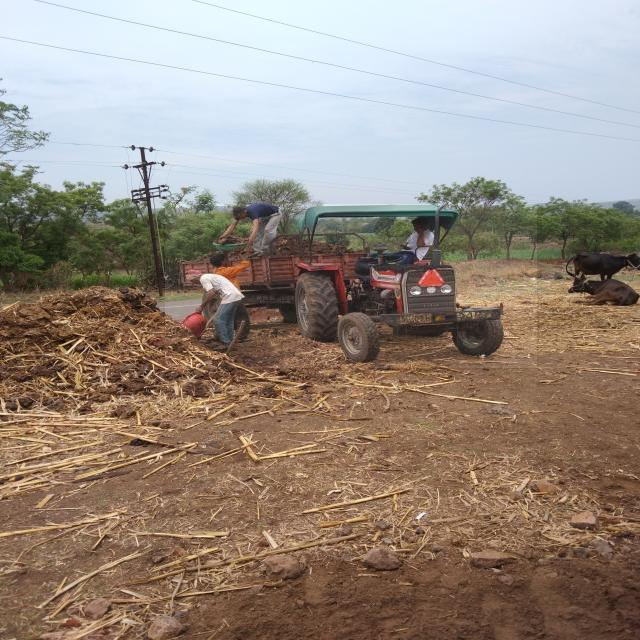Tractot: (165, 204, 538, 368)
